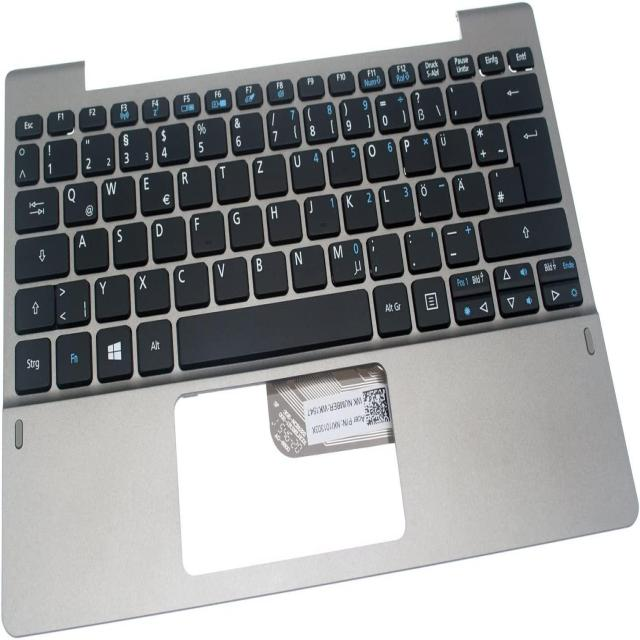0: (375, 90, 409, 131)
1: (42, 137, 77, 179)
2: (80, 132, 115, 174)
3: (117, 127, 153, 169)
4: (155, 121, 189, 163)
5: (192, 116, 227, 157)
6: (229, 110, 264, 152)
7: (267, 106, 301, 147)
8: (303, 100, 337, 142)
9: (339, 95, 373, 137)
a: (73, 226, 109, 271)
accent: (446, 80, 480, 121)
ae: (451, 170, 489, 214)
alt-left: (135, 318, 173, 372)
altgr-right: (372, 279, 411, 333)
b: (250, 249, 288, 295)
c: (172, 261, 210, 307)
caret: (13, 142, 39, 183)
comma: (365, 231, 403, 277)
d: (150, 215, 187, 261)
del: (481, 73, 541, 115)
e: (139, 169, 174, 214)
enter: (507, 114, 562, 202)
f: (189, 209, 225, 256)
g: (226, 204, 264, 249)
h: (265, 199, 302, 244)
hash: (488, 165, 524, 209)
i: (326, 142, 361, 185)
j: (304, 192, 339, 237)
k: (341, 187, 377, 232)
keyboard: (4, 35, 598, 408)
l: (379, 181, 415, 225)
less: (55, 277, 90, 325)
m: (327, 238, 364, 283)
minus: (440, 219, 479, 266)
n: (289, 244, 326, 291)
o: (363, 137, 398, 179)
oe: (415, 176, 452, 220)
p: (399, 131, 435, 174)
plus: (470, 119, 507, 163)
point: (403, 225, 442, 272)
q: (61, 180, 98, 225)
r: (177, 165, 212, 207)
s: (111, 221, 148, 266)
shift-left: (13, 284, 54, 331)
shift-lock: (14, 232, 69, 280)
shift-right: (477, 206, 572, 258)
space: (176, 289, 372, 363)
ss: (410, 85, 445, 126)
strg-left: (13, 335, 52, 392)
t: (214, 158, 249, 202)
tab: (13, 185, 59, 231)
u: (289, 147, 324, 190)
ue: (435, 127, 472, 168)
v: (212, 255, 249, 302)
w: (100, 175, 136, 219)
x: (132, 267, 170, 314)
y: (93, 272, 130, 320)
z: (252, 152, 287, 196)
